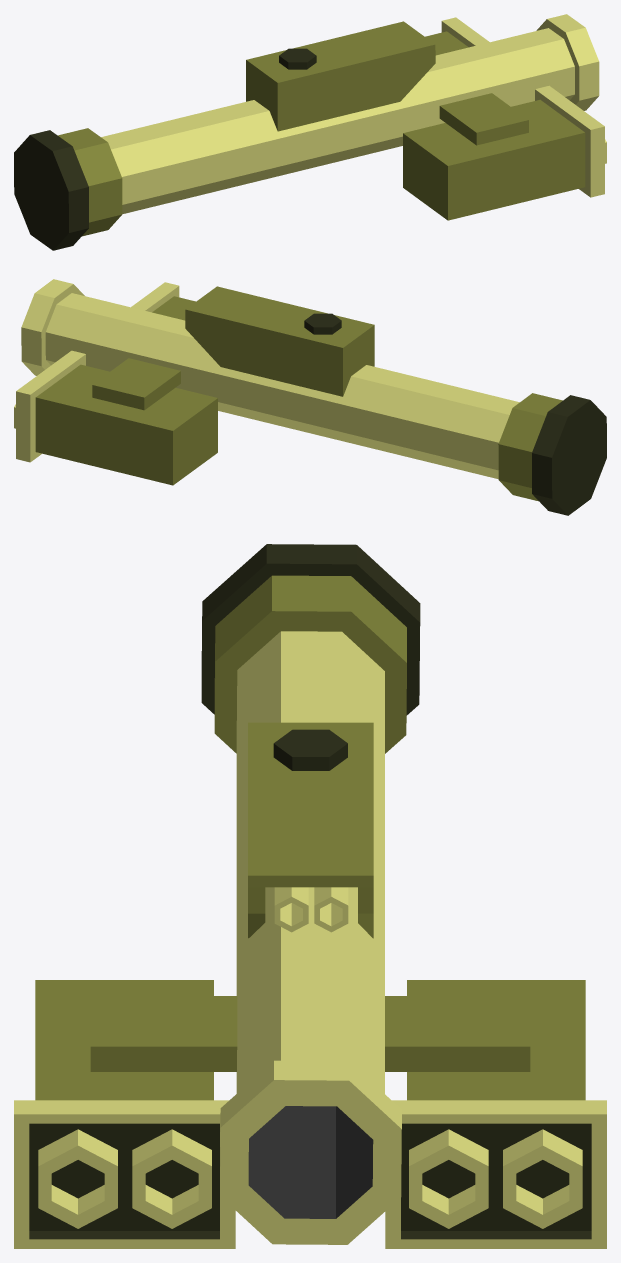
The model's file is sungtenlua.fbx.
3 renders of one model, top to bottom at view 1: azimuth 30°, elevation 25°; view 2: azimuth 150°, elevation 25°; view 3: azimuth 270°, elevation 25°, orthographic. The views are drawn at different scales.
Parts seen in each view (by area): view 1: sungtenlua; view 2: sungtenlua; view 3: sungtenlua.
Part boxes in pixels (x1=…): sungtenlua: x1=14, y1=14, x2=606, y2=250; sungtenlua: x1=14, y1=279, x2=606, y2=515; sungtenlua: x1=14, y1=544, x2=606, y2=1248.
Size of the model in its own units: 4.59 by 1.15 by 2.21.
